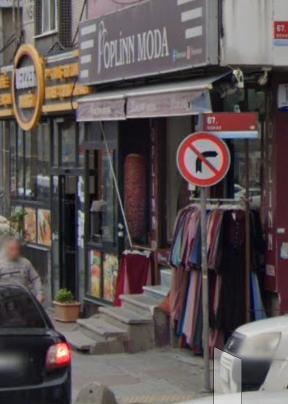rightturnsareforbidden: (177, 133, 228, 185)
